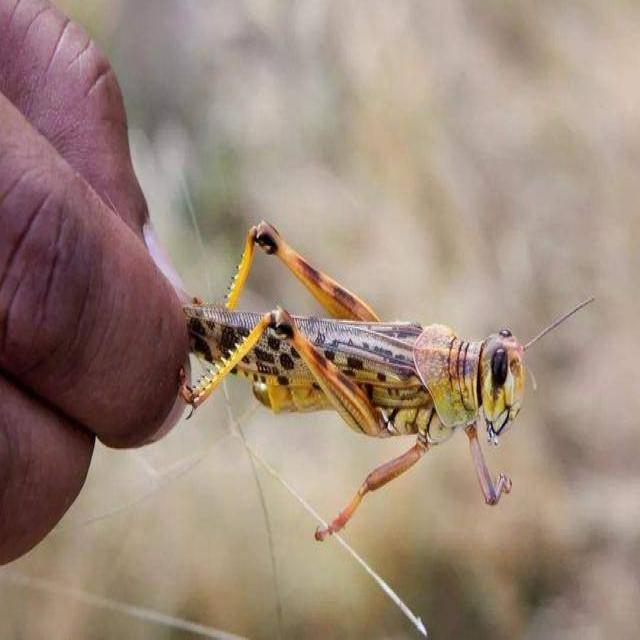ZhaMeng: (193, 181, 564, 540)
